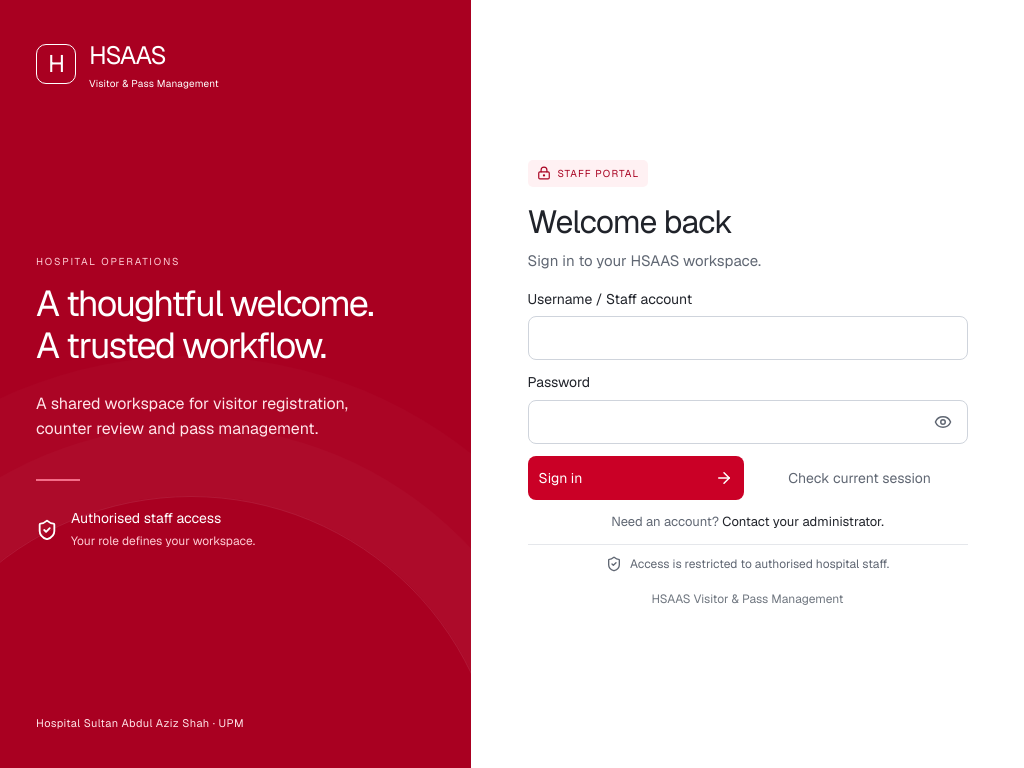
Test: shell auth and role interactions › signs in using username (not email), preserves password bytes and navigates to role workspace
Type " STAFF_01 " into the field labelled "Username / Staff account". click: (748, 338)
box: [528,316,968,360]
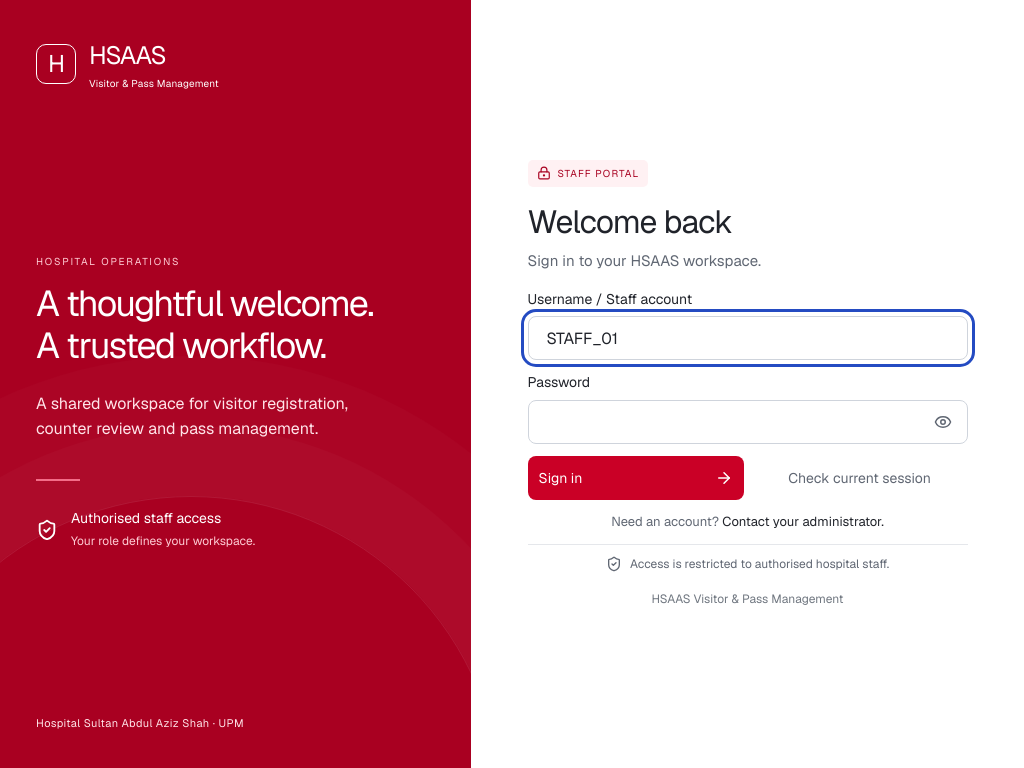
Type " synthetic password " into the password field labelled "Password". click: (748, 422)
box: [528,400,968,444]
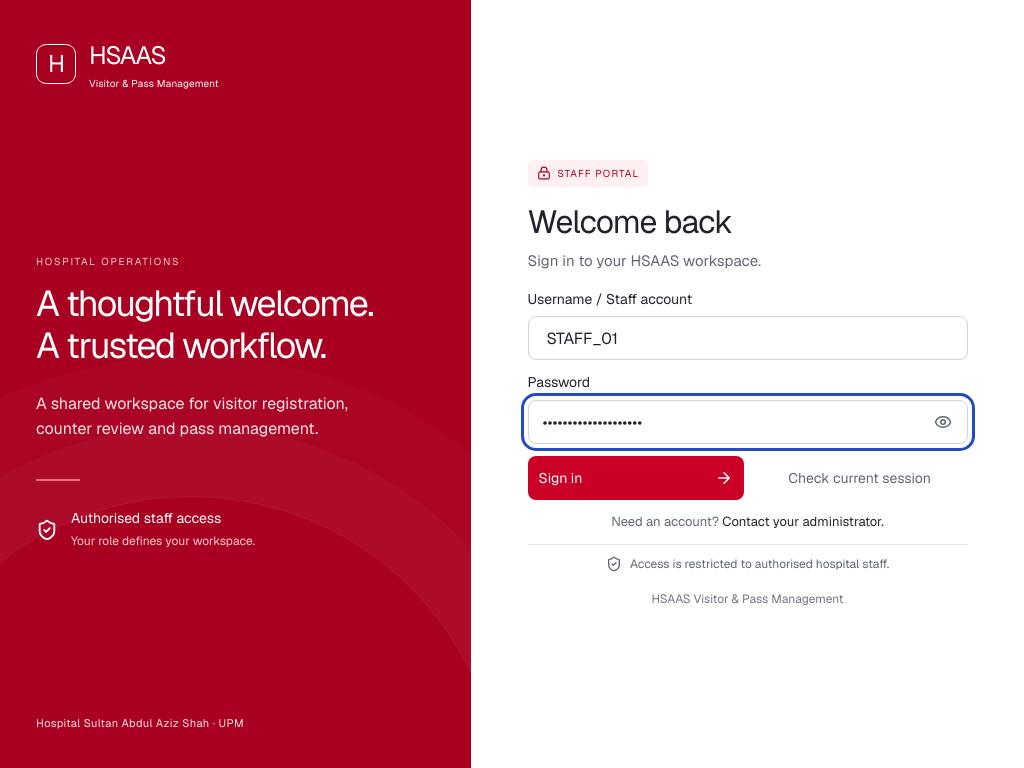
Click the button named "Show password". click: (942, 422)
box: [920,400,964,444]
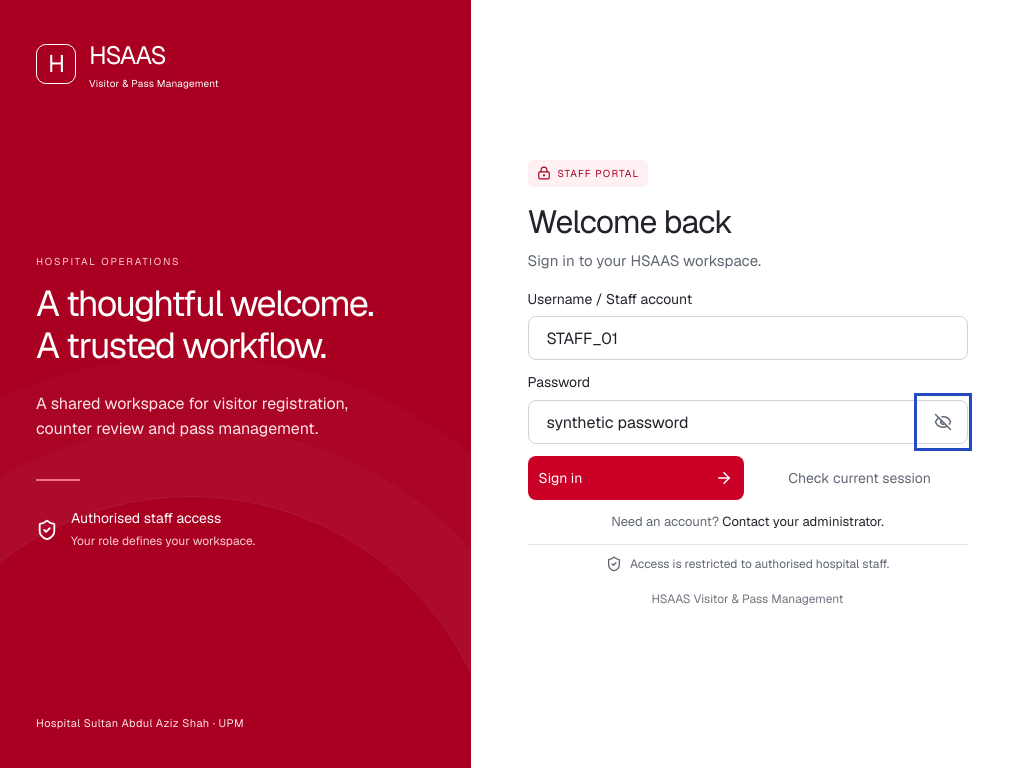
Now the field labelled "Password" shows its text, box [528,400,968,444]
Click the button "Sign in". click: (636, 478)
box: [528,456,744,500]
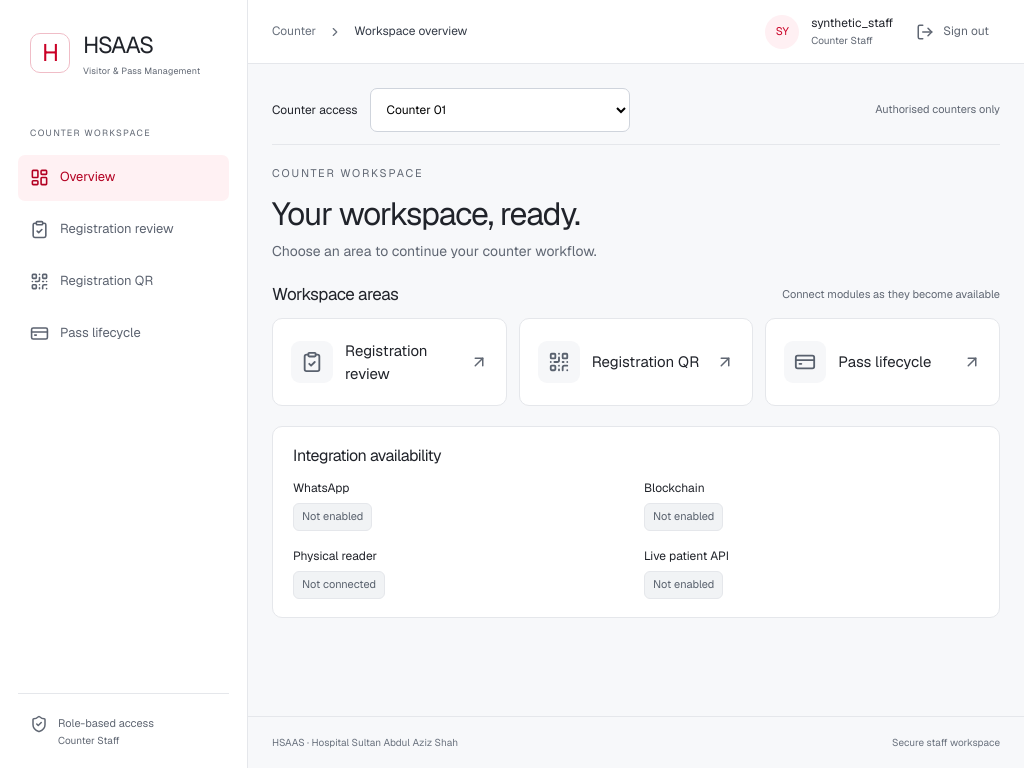
Now the heading "Your workspace, ready." is shown, box [272,193,579,234]
